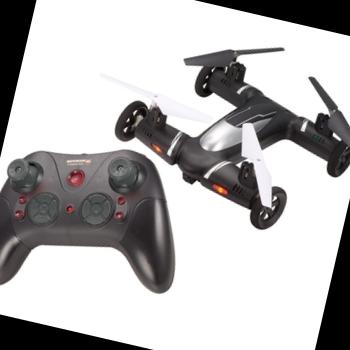drone: (70, 8, 350, 243)
